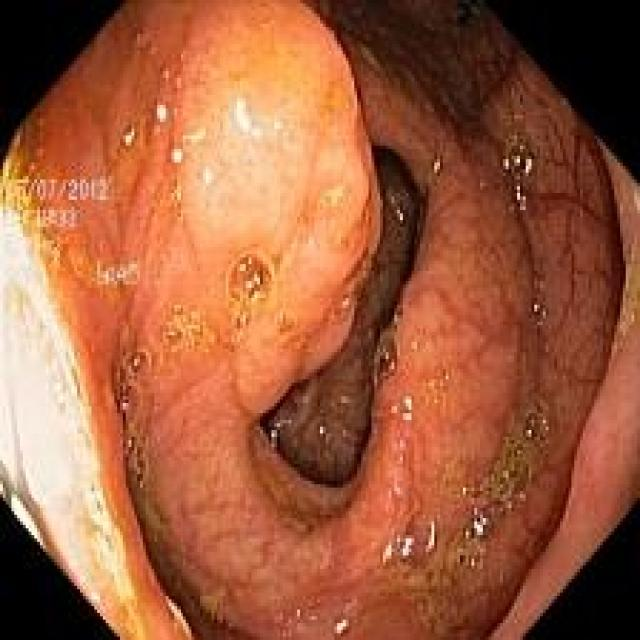Polyps: (165, 4, 380, 420)
